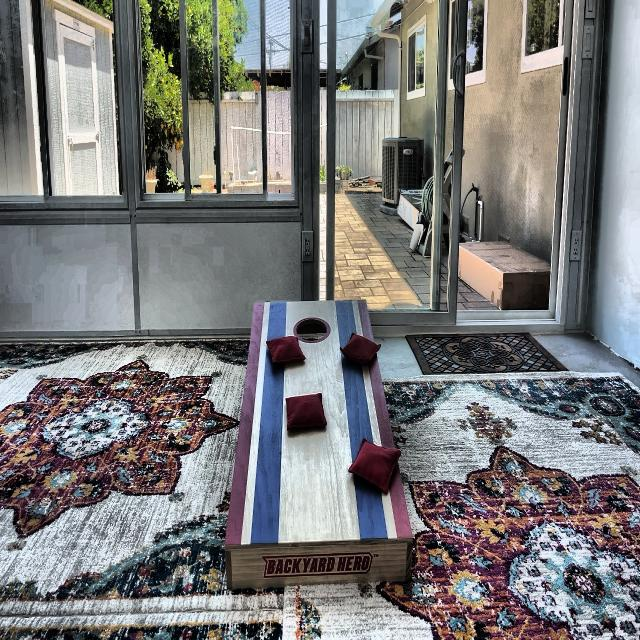board: (250, 300, 376, 541)
hole: (294, 315, 330, 343)
red-bean-bag: (349, 437, 401, 493), (286, 393, 326, 430), (339, 332, 381, 363), (266, 335, 306, 364)
